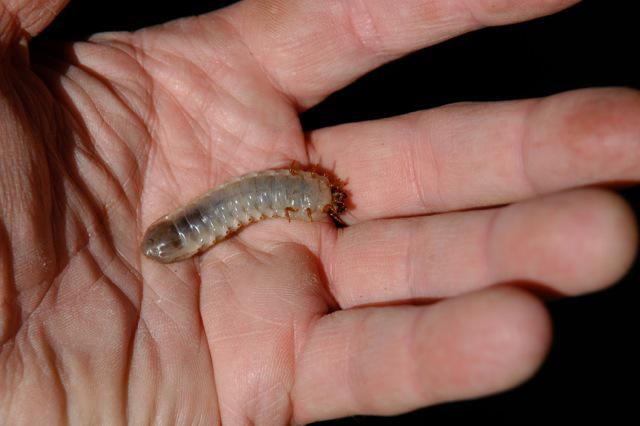grub: (144, 157, 356, 264)
